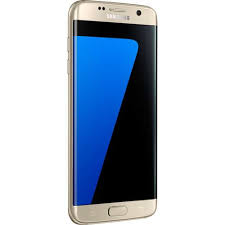samsung: (64, 1, 161, 221)
